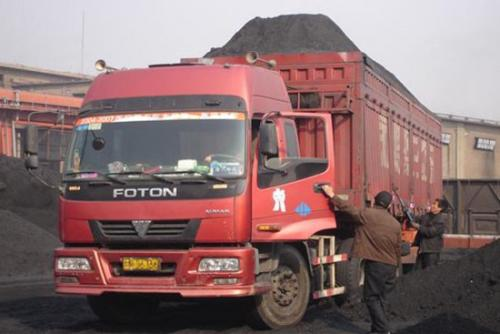chaozhai: (59, 11, 450, 330)
